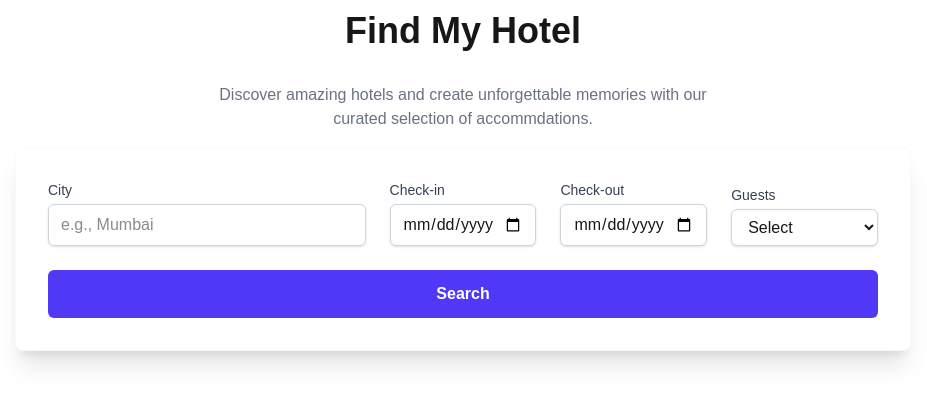
Test: Home Page › shows specific validation errors for each empty field
The image size is (927, 405).
Click the button "Search" at point(463, 294), box [48,270,878,318]
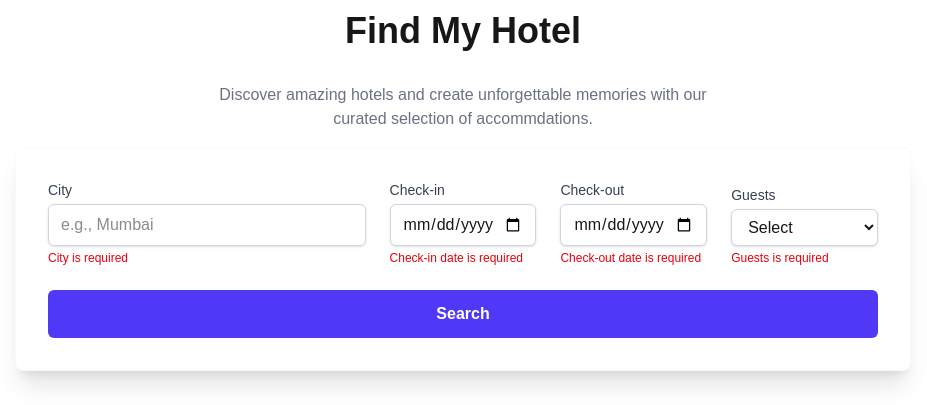
Result: the text "City is required" is shown at [48,251,128,265]
Result: the text "Check-in date is required" is shown at [390,250,536,266]
Result: the text "Check-out date is required" is shown at [560,250,707,266]
